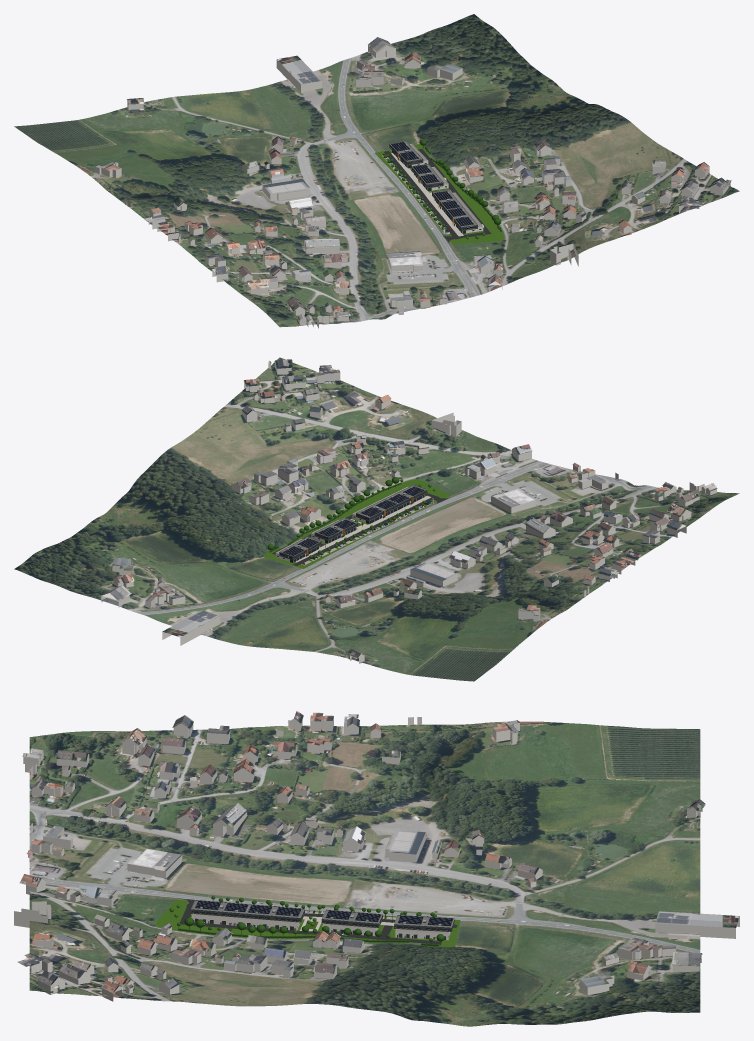
File: teichwiese-v5.glb
3 renders of one model, top to bottom at view 1: azimuth 30°, elevation 25°; view 2: azimuth 150°, elevation 25°; view 3: azimuth 270°, elevation 25°, orthographic. The views are drawn at different scales.
Parts seen in each view (by area): view 1: Web_Gelaende, Web_Umgebung, Web_Rasen_Grundstueck, Web_Bauteil_3_Gebaeude, Web_Bauteil_4_Gebaeude, Web_Bauteil_1_Gebaeude, Web_Bauteil_2_Gebaeude; view 2: Web_Gelaende, Web_Umgebung, Web_Rasen_Grundstueck, Web_Bauteil_3_Gebaeude, Web_Bauteil_4_Gebaeude, Web_Bauteil_2_Gebaeude, Web_Bauteil_1_Gebaeude; view 3: Web_Gelaende, Web_Umgebung, Web_Rasen_Grundstueck, Web_Bauteil_4_Gebaeude, Web_Bauteil_2_Gebaeude, Web_Bauteil_1_Gebaeude, Web_Bauteil_3_Gebaeude, Web_Hof_hinten.
Part boxes in pixels (left/top/right/bottom): Web_Gelaende: left=14, top=14, right=739, bottom=327; Web_Umgebung: left=94, top=37, right=731, bottom=328; Web_Rasen_Grundstueck: left=375, top=144, right=503, bottom=244; Web_Bauteil_3_Gebaeude: left=411, top=163, right=448, bottom=190; Web_Bauteil_4_Gebaeude: left=389, top=141, right=428, bottom=168; Web_Bauteil_1_Gebaeude: left=446, top=207, right=483, bottom=233; Web_Bauteil_2_Gebaeude: left=432, top=189, right=468, bottom=216; Web_Gelaende: left=14, top=357, right=739, bottom=681; Web_Umgebung: left=101, top=359, right=717, bottom=663; Web_Rasen_Grundstueck: left=263, top=479, right=450, bottom=568; Web_Bauteil_3_Gebaeude: left=311, top=517, right=358, bottom=543; Web_Bauteil_4_Gebaeude: left=275, top=536, right=321, bottom=562; Web_Bauteil_2_Gebaeude: left=352, top=498, right=398, bottom=524; Web_Bauteil_1_Gebaeude: left=380, top=484, right=427, bottom=510; Web_Gelaende: left=29, top=721, right=700, bottom=1026; Web_Umgebung: left=14, top=711, right=739, bottom=1001; Web_Rasen_Grundstueck: left=155, top=899, right=460, bottom=946; Web_Bauteil_4_Gebaeude: left=394, top=914, right=454, bottom=940; Web_Bauteil_2_Gebaeude: left=244, top=904, right=304, bottom=930; Web_Bauteil_1_Gebaeude: left=191, top=899, right=249, bottom=925; Web_Bauteil_3_Gebaeude: left=321, top=909, right=382, bottom=935; Web_Hof_hinten: left=192, top=922, right=441, bottom=944.
Size of the model in its own units: 614 by 61.23 by 650.
Materials: 52 (2 with a texture image).
